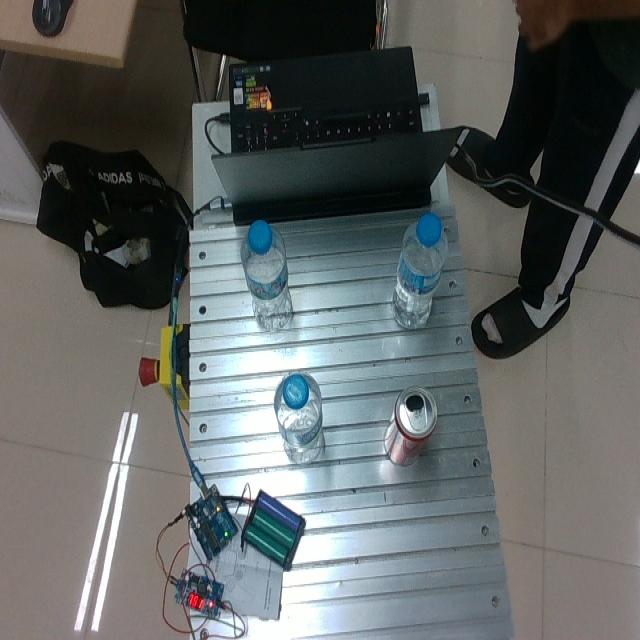coca: (384, 384, 438, 465)
lavie: (392, 213, 448, 329), (240, 220, 292, 331), (274, 371, 323, 464)
